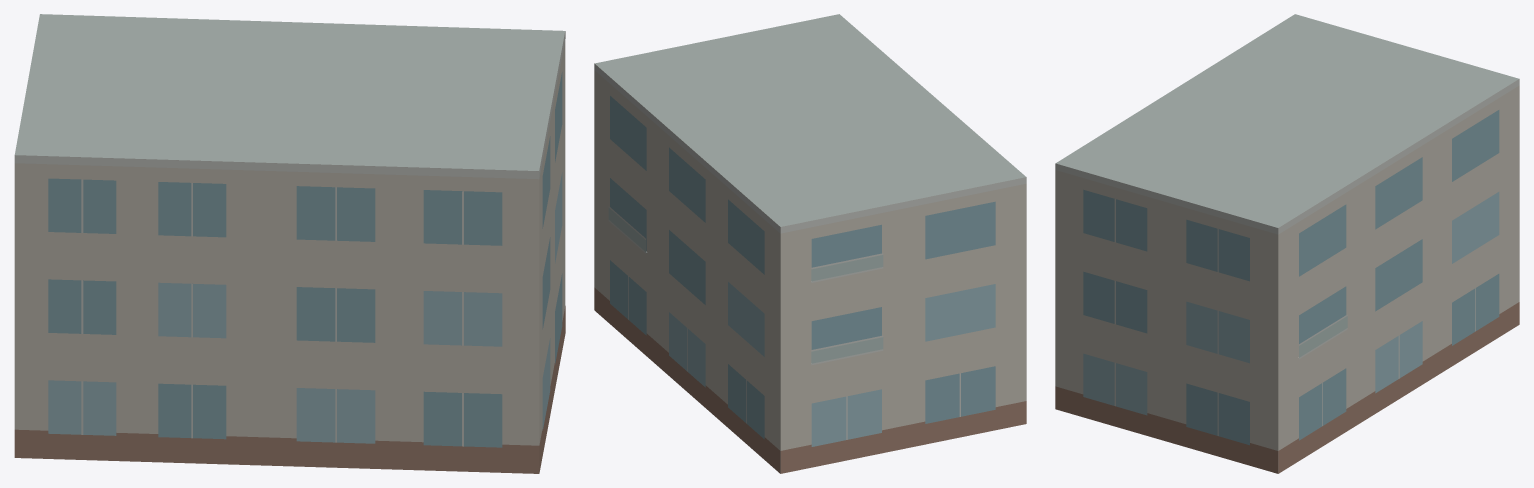
Rendered from survey-upis-32707470.glb.
The picture shows the model from 3 angles, left to right: view 1: azimuth 30°, elevation 25°; view 2: azimuth 150°, elevation 25°; view 3: azimuth 270°, elevation 25°; orthographic projection. The views are drawn at different scales.
Visible parts, largest first — view 1: survey-upis-32707470.tmp; view 2: survey-upis-32707470.tmp; view 3: survey-upis-32707470.tmp.
Boxes of the visible parts, <box> form: survey-upis-32707470.tmp: <box>14,14,565,473</box>; survey-upis-32707470.tmp: <box>594,14,1026,473</box>; survey-upis-32707470.tmp: <box>1055,14,1519,473</box>.
Size of the model in its own units: 17.1 by 9.15 by 15.67.
